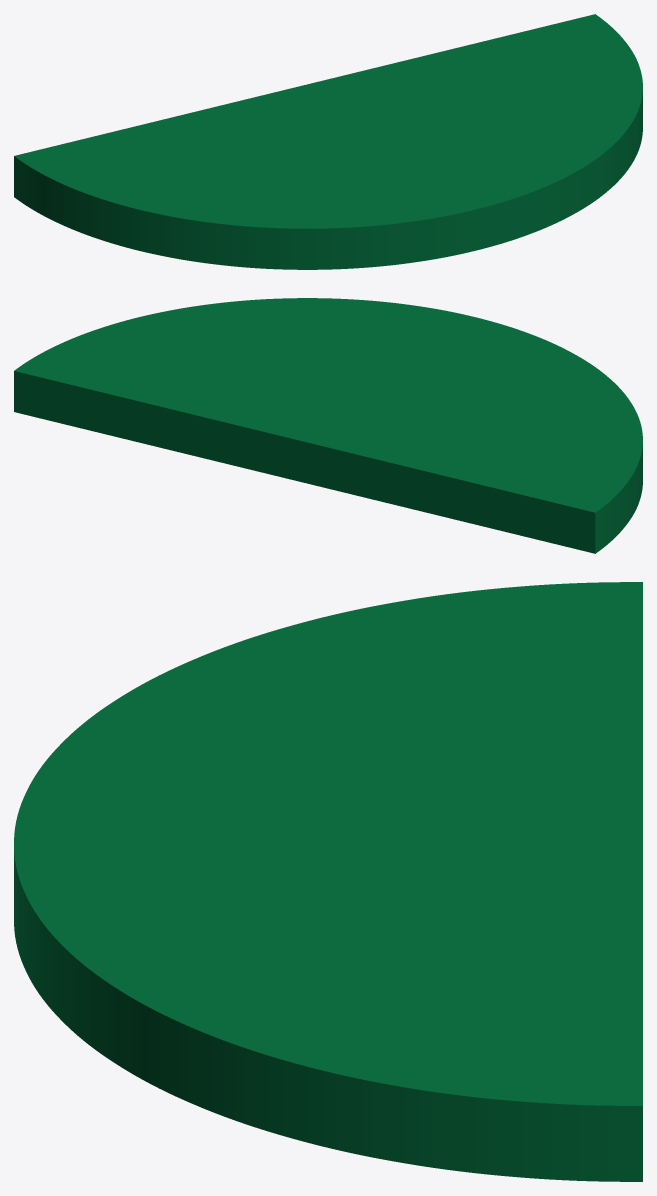
File: save50.gltf
3 renders of one model, top to bottom at view 1: azimuth 30°, elevation 25°; view 2: azimuth 150°, elevation 25°; view 3: azimuth 270°, elevation 25°, orthographic. The views are drawn at different scales.
Parts seen in each view (by area): view 1: 50save; view 2: 50save; view 3: 50save.
Part boxes in pixels (x1,y1,x2,y2): 50save: (14,14,642,269); 50save: (14,298,642,553); 50save: (14,582,642,1181).
Bounding box in the file's own units: 3.92 × 0.2649 × 1.99.
